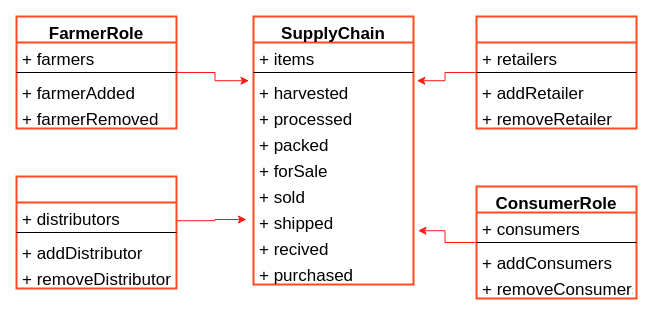
Image size: 657x315. Some labels were removed from this diagram. Each missing label, with the box of its shape:
DistributorRole: (15, 175, 177, 289)
RetailerRole: (475, 15, 637, 129)
